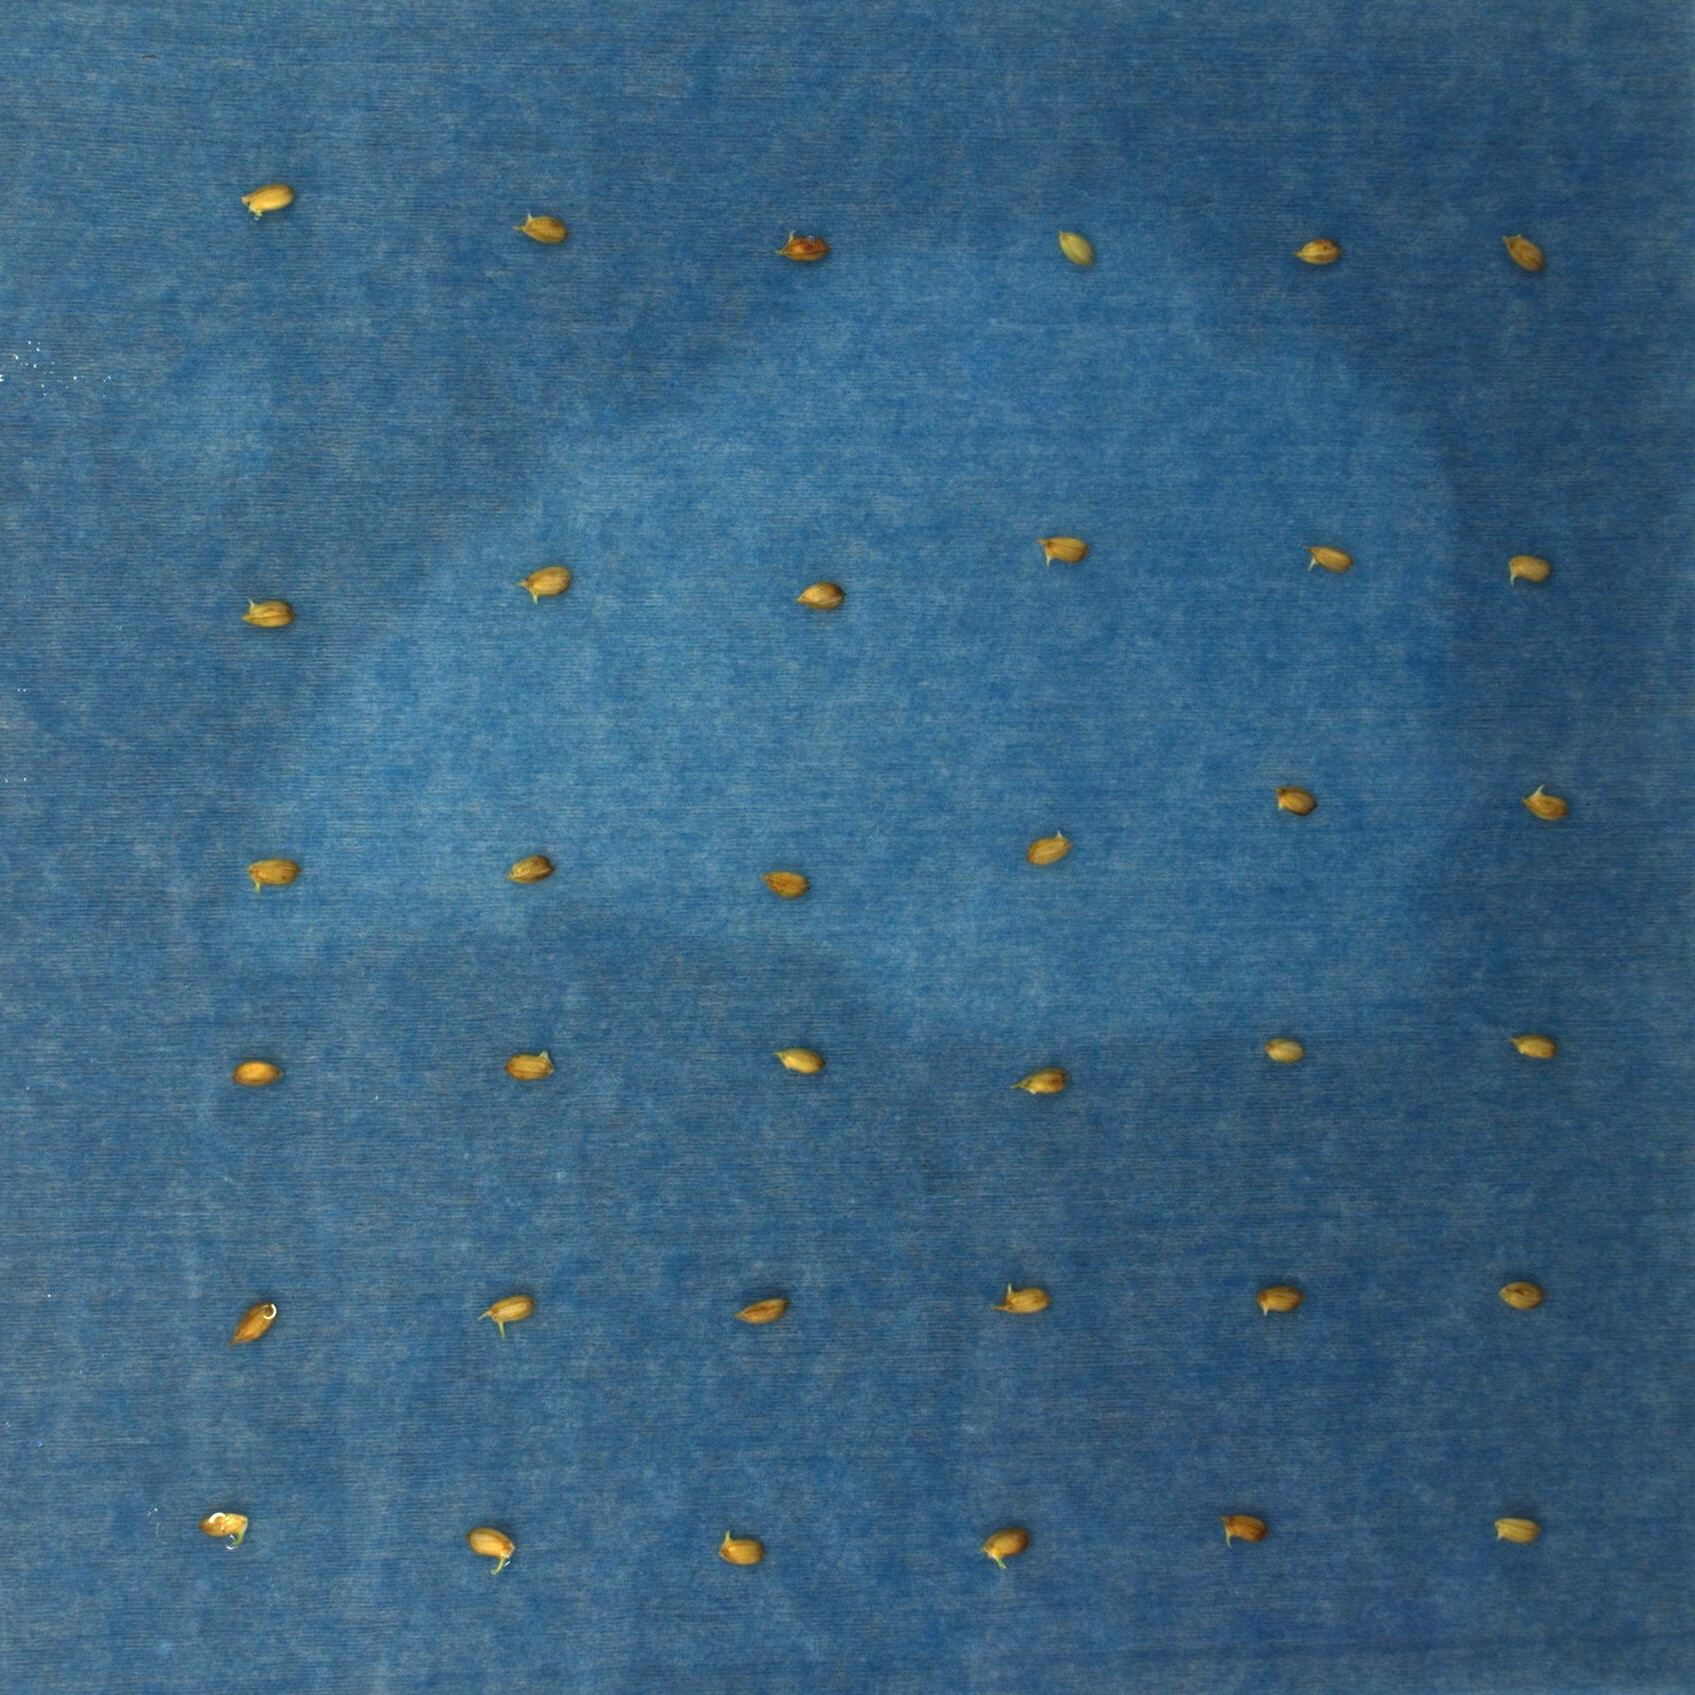not sprout: (477, 1291, 536, 1338), (467, 1523, 515, 1579), (978, 1526, 1035, 1569), (230, 1301, 276, 1349), (1220, 1509, 1271, 1552), (719, 1526, 768, 1569), (522, 563, 574, 604), (1521, 785, 1572, 826), (239, 183, 293, 220), (1007, 1066, 1071, 1097), (514, 210, 568, 245), (1492, 1515, 1546, 1551), (1506, 234, 1551, 276), (248, 858, 301, 894), (995, 1282, 1052, 1315), (779, 230, 834, 264), (239, 598, 295, 630), (501, 1052, 560, 1082), (736, 1298, 793, 1327), (1028, 832, 1073, 869), (795, 579, 846, 612), (1509, 553, 1555, 588), (765, 868, 813, 902), (1060, 227, 1097, 270), (1305, 543, 1355, 576), (508, 854, 557, 886), (1038, 534, 1093, 563), (1507, 1035, 1560, 1063), (1496, 1279, 1546, 1309), (231, 1060, 286, 1087), (775, 1048, 826, 1076), (1257, 1285, 1302, 1316), (1295, 239, 1344, 267), (1274, 785, 1316, 816), (1267, 1038, 1305, 1065)
sprout: (199, 1510, 251, 1552)
